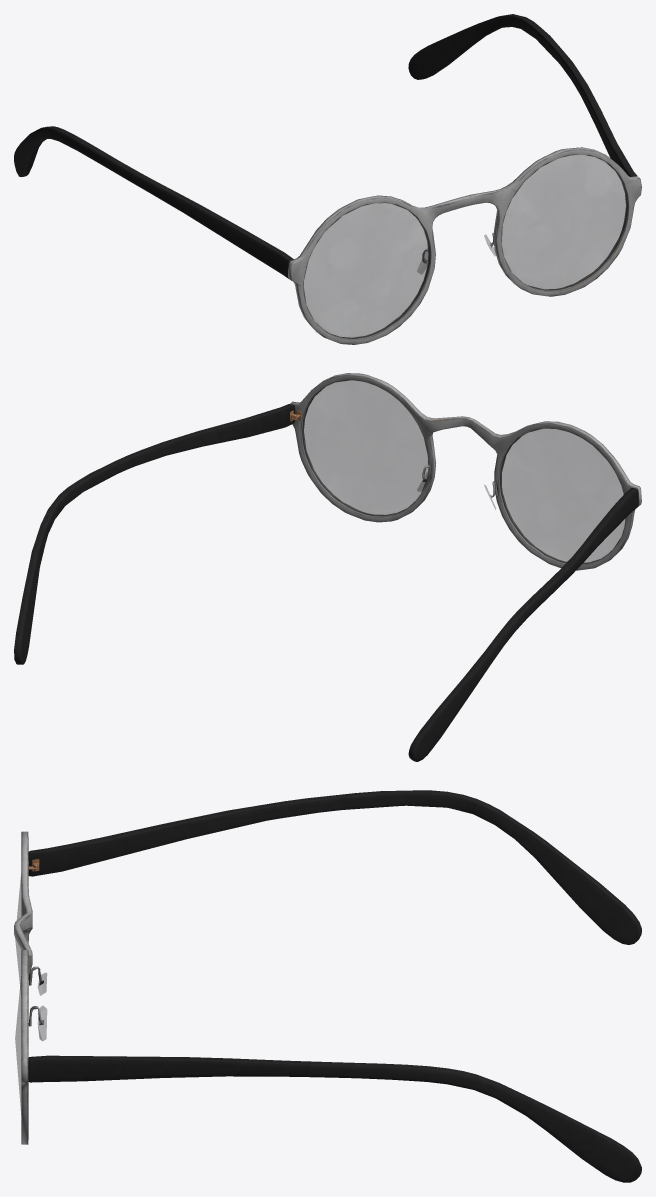
The model's file is round_spectacles.glb.
3 views of the same model, one above another, from view 1: azimuth 30°, elevation 25°; view 2: azimuth 150°, elevation 25°; view 3: azimuth 270°, elevation 25° (orthographic). The views are drawn at different scales.
Visible parts, largest first — view 1: round_spectacles_glass, round_spectacles; view 2: round_spectacles_glass, round_spectacles; view 3: round_spectacles, round_spectacles_glass.
Part boxes in pixels (x1=…): round_spectacles_glass: x1=304, y1=155, x2=626, y2=338; round_spectacles: x1=14, y1=14, x2=641, y2=344; round_spectacles_glass: x1=302, y1=380, x2=625, y2=563; round_spectacles: x1=14, y1=373, x2=641, y2=761; round_spectacles: x1=14, y1=790, x2=641, y2=1182; round_spectacles_glass: x1=15, y1=880, x2=46, y2=1106.
Size of the model in its own units: 0.1578 by 0.0463 by 0.149.
2 materials, 2 textured.
